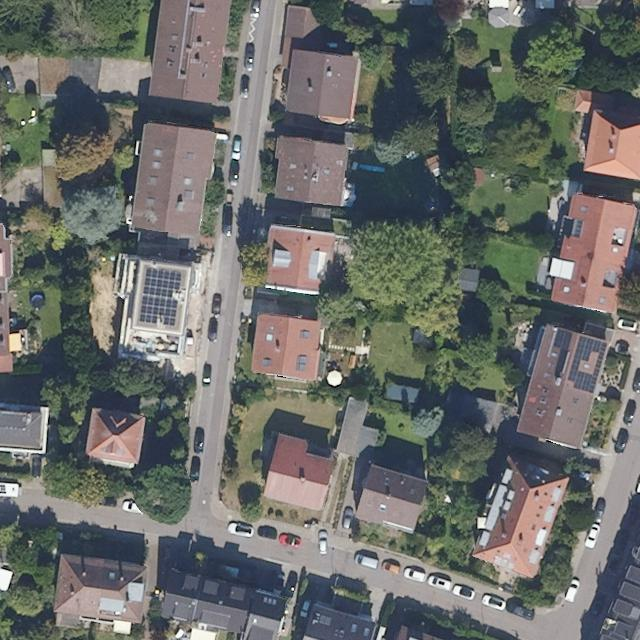PV: (138, 267, 183, 328), (566, 334, 609, 395), (552, 328, 574, 379)
